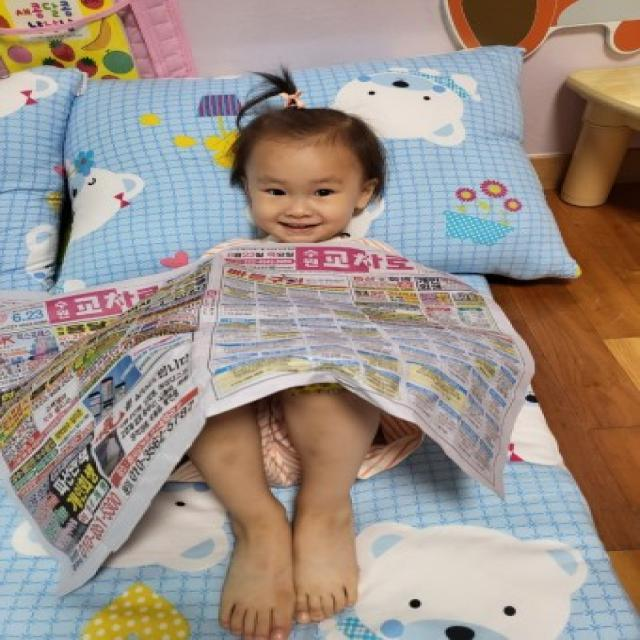reuseable_paper: (230, 255, 456, 393)
